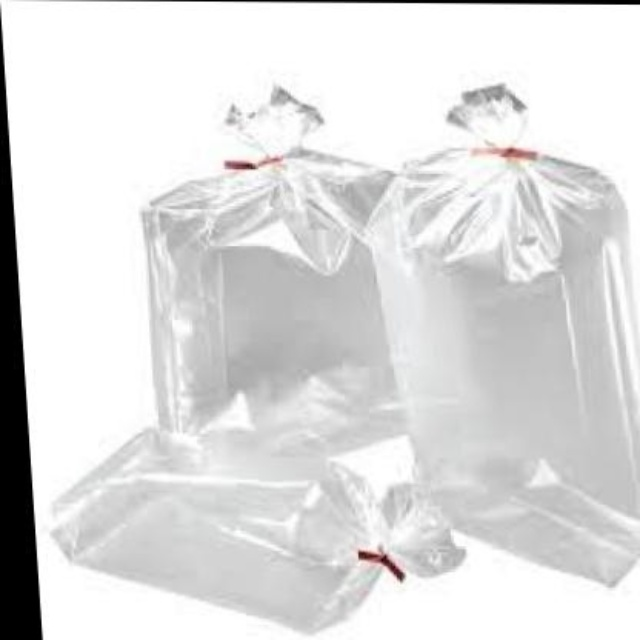trash: (52, 85, 638, 631), (368, 85, 638, 571)
